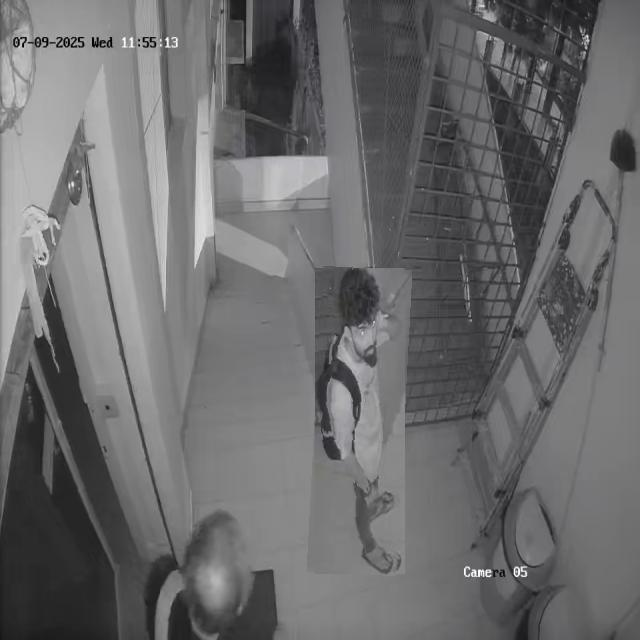person: (311, 267, 409, 575)
